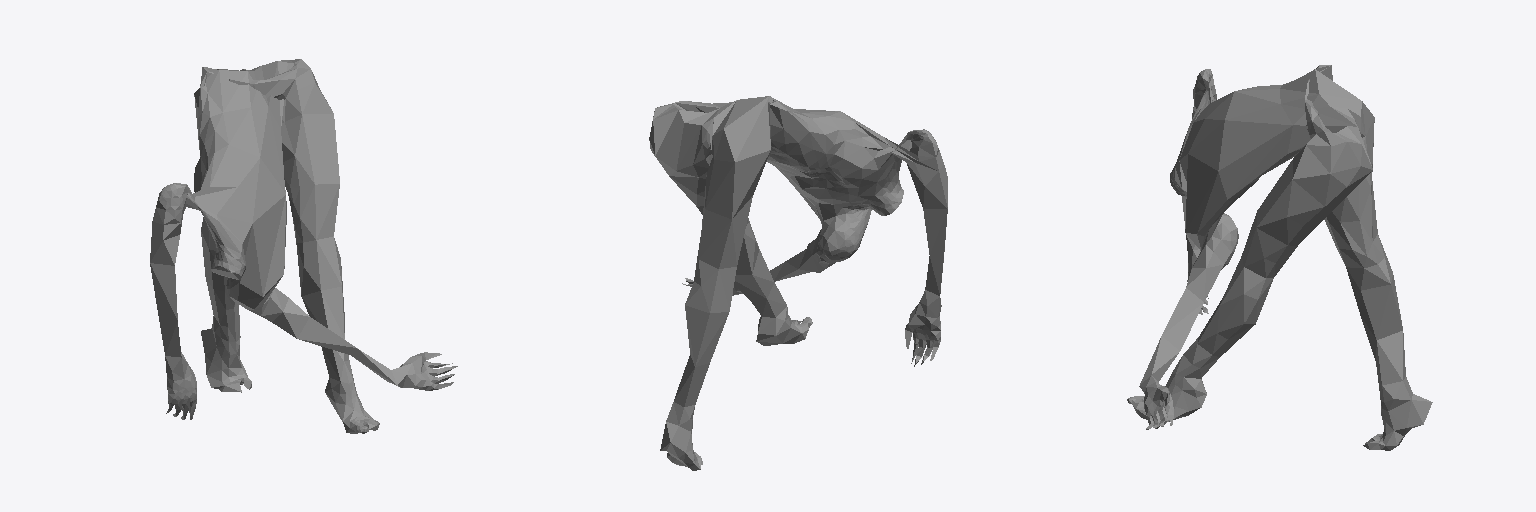
File: cuerpo4.obj
3 renders of one model, left to right at view 1: azimuth 30°, elevation 25°; view 2: azimuth 150°, elevation 25°; view 3: azimuth 270°, elevation 25°, orthographic.
Visible parts, largest first — view 1: 2021_lowpoly_mannequin_Plane.007_Plane.020; view 2: 2021_lowpoly_mannequin_Plane.007_Plane.020; view 3: 2021_lowpoly_mannequin_Plane.007_Plane.020.
Part boxes in pixels (bbox=[...]): 2021_lowpoly_mannequin_Plane.007_Plane.020: bbox=[150, 59, 457, 433]; 2021_lowpoly_mannequin_Plane.007_Plane.020: bbox=[649, 96, 947, 470]; 2021_lowpoly_mannequin_Plane.007_Plane.020: bbox=[1127, 65, 1432, 450].
Bounding box in the file's own units: 0.904 × 1.07 × 0.8362.